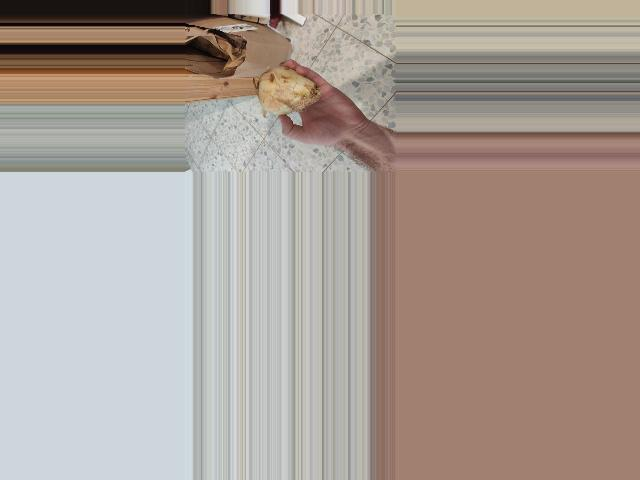onion: (251, 62, 317, 116)
